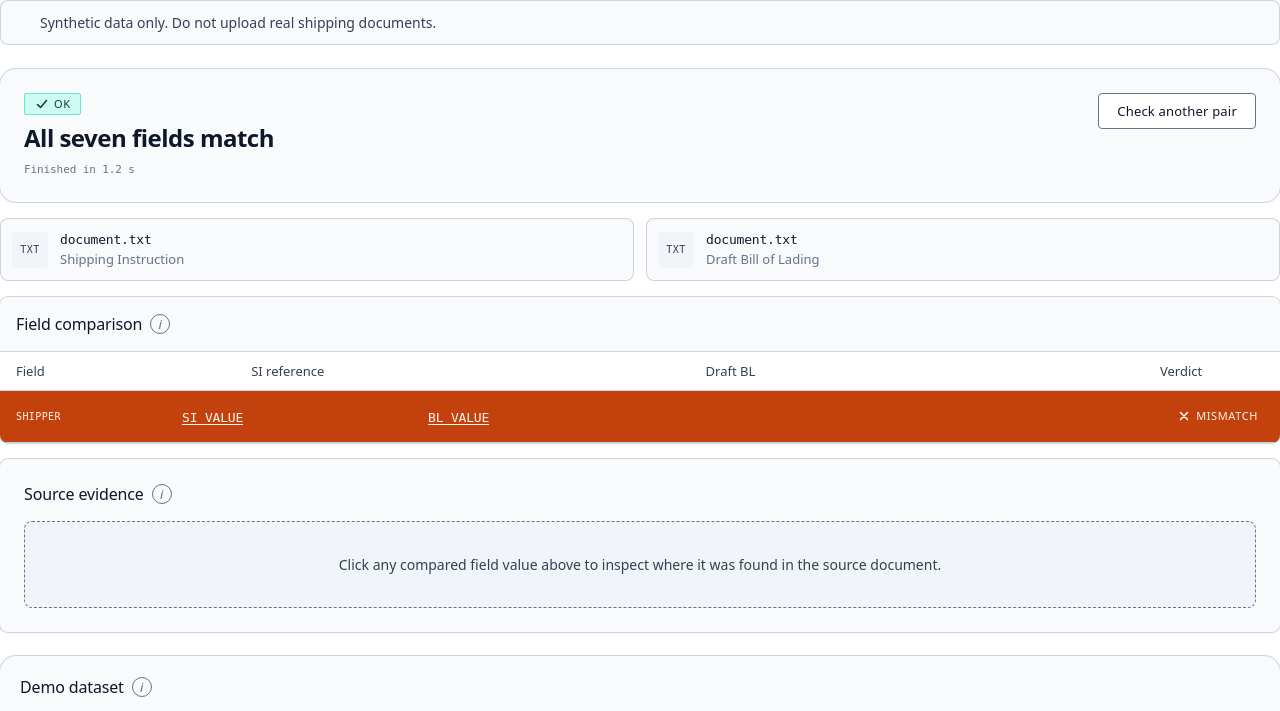
Test: JudgeView › matches evidence to the document by attachment id, not file name, when two documents share a file name
Click the button "BL VALUE" at (458, 418), box [428,408,489,428]
(page scrolled)
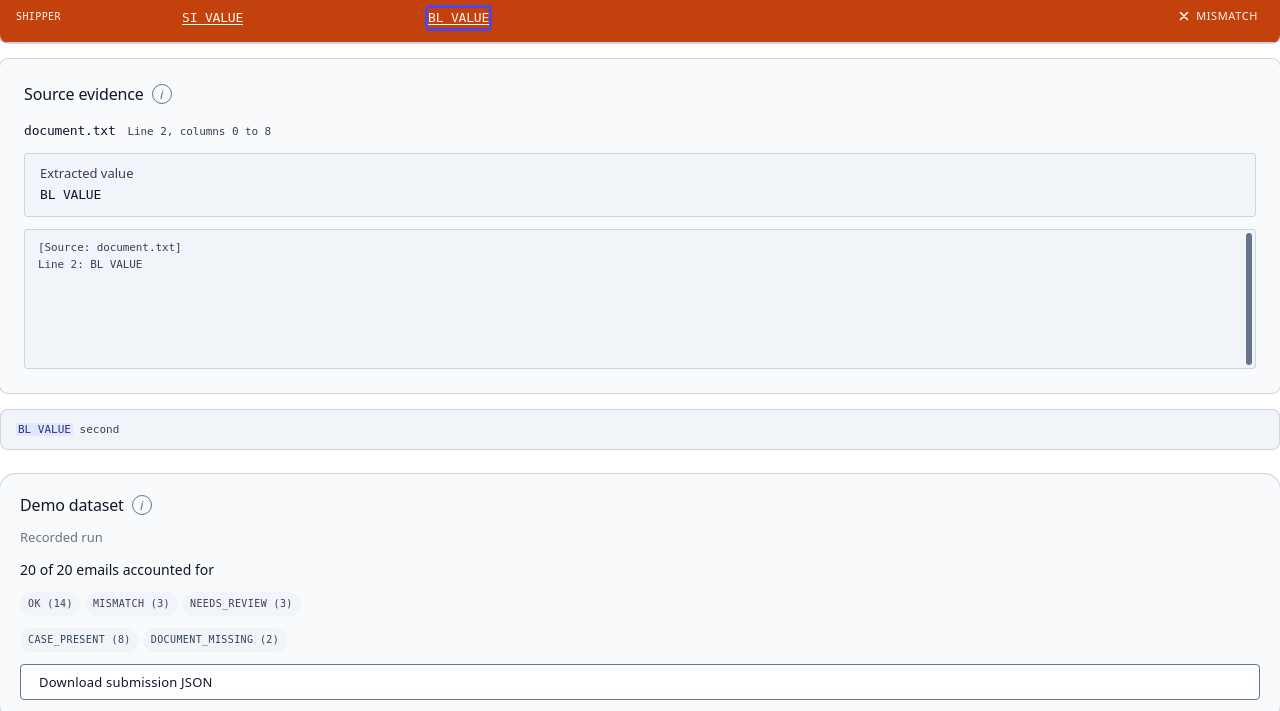
Expected: the text "BL VALUE" reads "BL VALUE second", [16,423,119,436]
